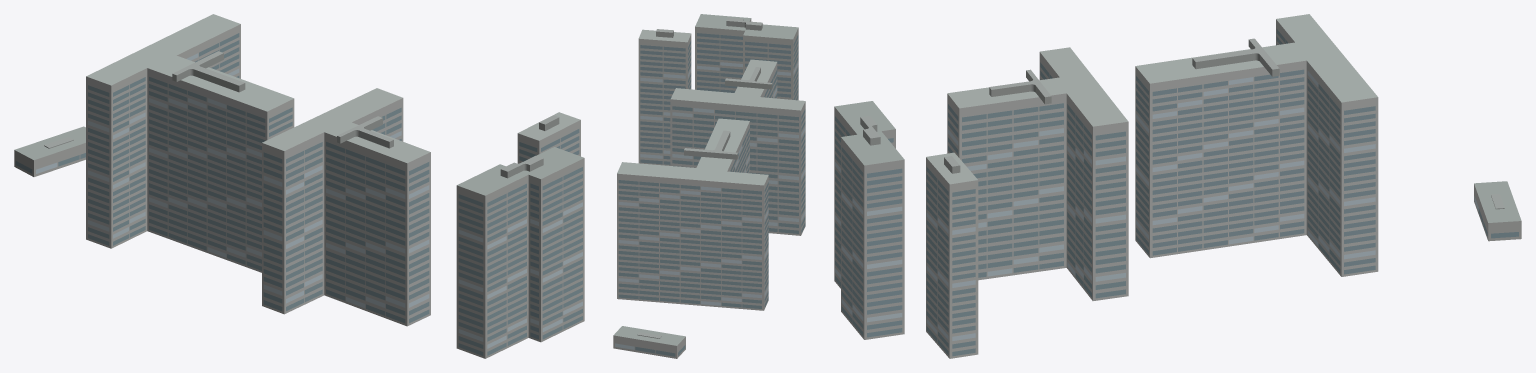
The model's file is apt-a14381513.glb.
The picture shows the model from 3 angles, left to right: view 1: azimuth 30°, elevation 25°; view 2: azimuth 150°, elevation 25°; view 3: azimuth 270°, elevation 25°; orthographic projection. The views are drawn at different scales.
Visible parts, largest first — view 1: apt-a14381513; view 2: apt-a14381513; view 3: apt-a14381513.
Part boxes in pixels (box(x1,y1,x2,y2)): apt-a14381513: box(14, 14, 584, 358); apt-a14381513: box(613, 14, 805, 358); apt-a14381513: box(834, 14, 1521, 358).
Bounding box in the file's own units: 123 × 61 × 209.
